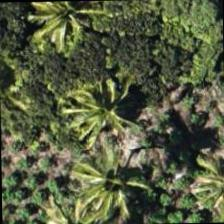Kelapa_Sawit: (61, 63, 153, 155), (64, 144, 157, 223), (17, 0, 108, 68)
